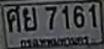1: (88, 4, 95, 27), (61, 5, 68, 28)
6: (73, 5, 84, 27)
7: (44, 6, 56, 29)
A34: (22, 6, 36, 30)
A38: (6, 5, 20, 32)
